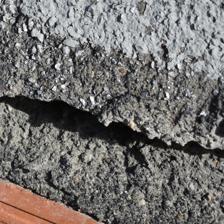Crack: (3, 45, 220, 121)
